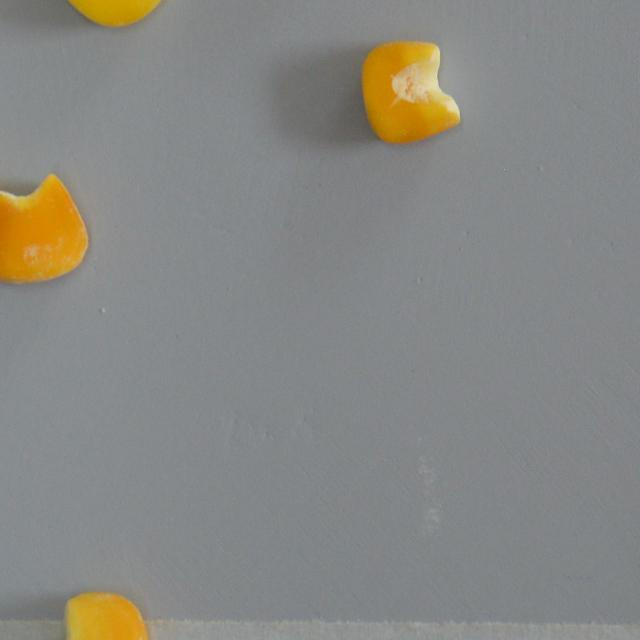no_canjicado: (0, 170, 90, 284), (38, 0, 173, 30)
no_desgerminado: (357, 38, 464, 146)
